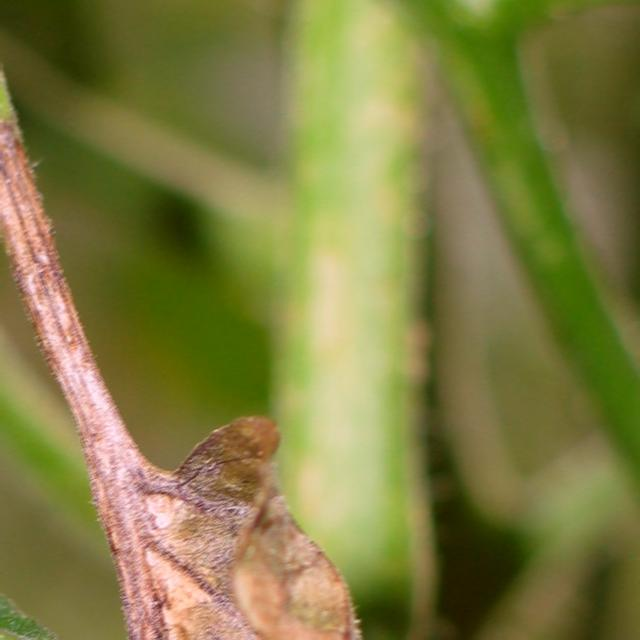Tomato leaf late blight: (0, 365, 640, 640)
